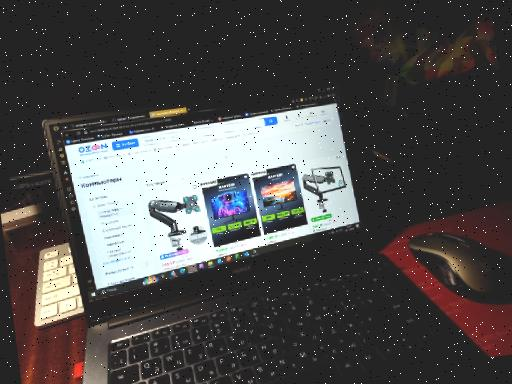ozon: (65, 101, 364, 292)
